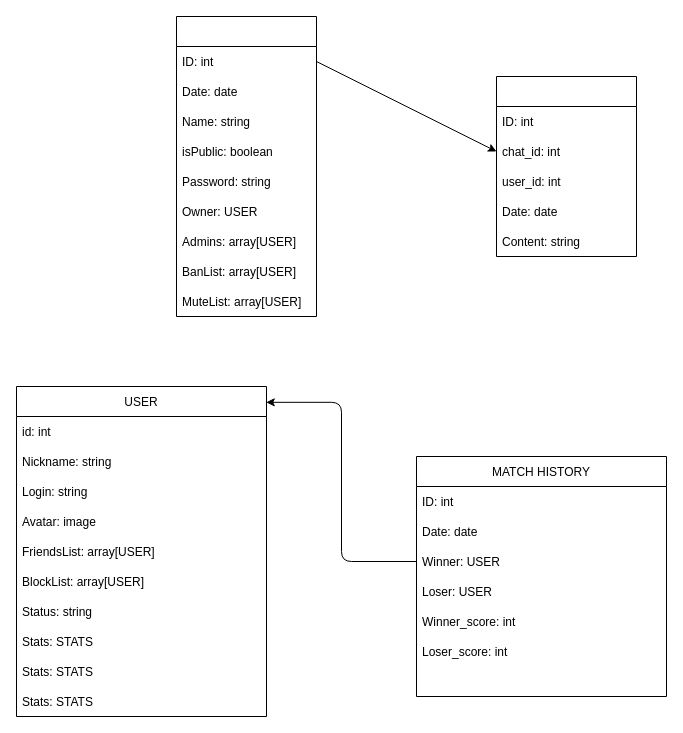
This 683x733 diagram has some shape labels left out. Each missing label, with the box of its shape:
CHAT ROOM: (176, 16, 316, 316)
MESSAGES: (496, 76, 636, 256)
